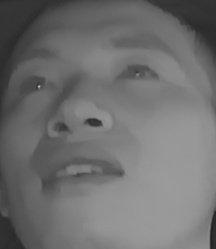eye: (114, 58, 160, 86), (8, 71, 58, 96)
mouth: (33, 147, 126, 201)
